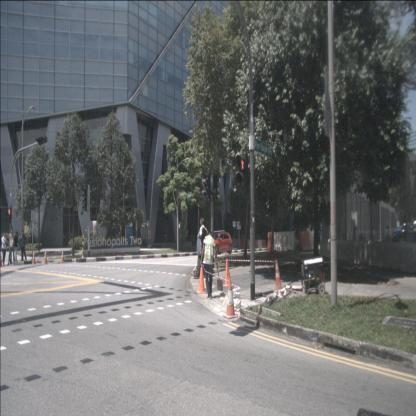barrier: (273, 231, 296, 252), (298, 231, 312, 252), (268, 231, 280, 252), (240, 238, 250, 248), (248, 240, 258, 249), (257, 240, 262, 249), (262, 240, 266, 249)
cone: (223, 278, 238, 319), (274, 259, 284, 293), (223, 258, 233, 287), (197, 264, 206, 294), (31, 251, 36, 265), (43, 250, 48, 264), (60, 250, 65, 263), (0, 252, 3, 267)
